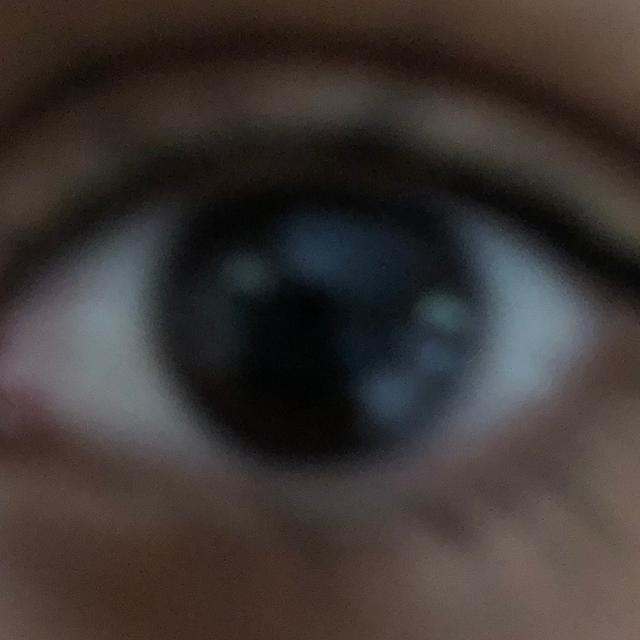eye: (0, 163, 605, 498)
iris: (152, 183, 480, 468)
